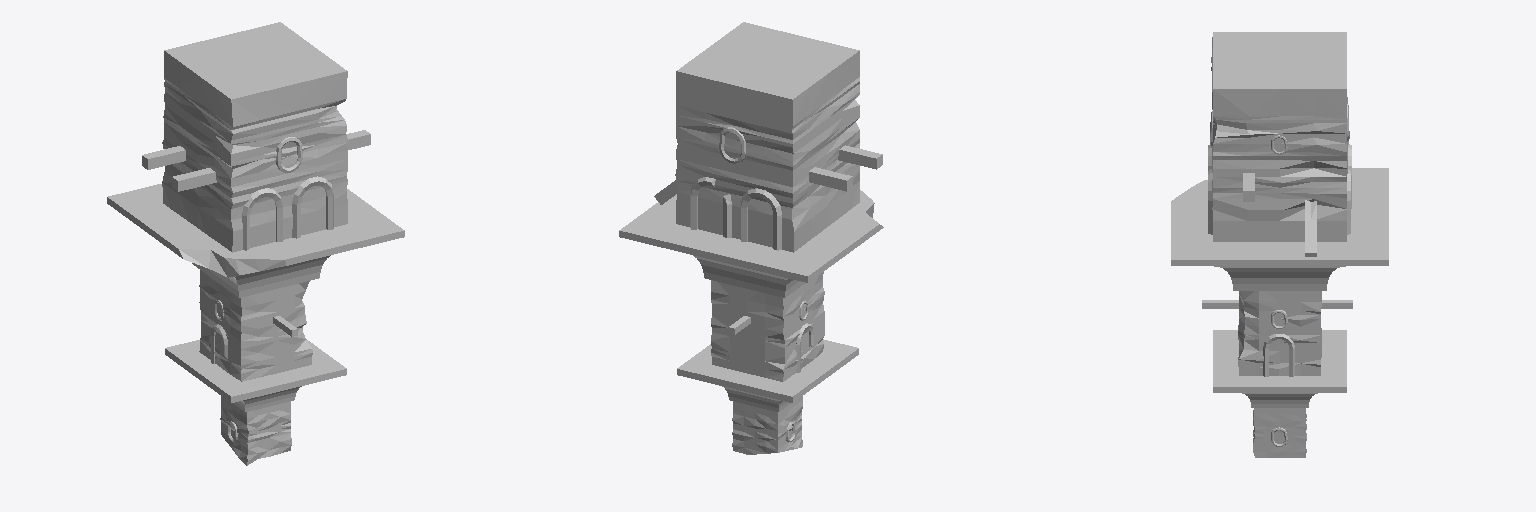
File: upsidedownhouse2.obj
The picture shows the model from 3 angles: view 1: azimuth 30°, elevation 25°; view 2: azimuth 150°, elevation 25°; view 3: azimuth 270°, elevation 25°; orthographic projection.
Parts seen in each view (by area): view 1: Torus.007_Torus.024_Torus.007_Torus.024_auv.001; view 2: Torus.007_Torus.024_Torus.007_Torus.024_auv.001; view 3: Torus.007_Torus.024_Torus.007_Torus.024_auv.001.
Part boxes in pixels (x1,y1,x2,y2): Torus.007_Torus.024_Torus.007_Torus.024_auv.001: (107, 22, 404, 465); Torus.007_Torus.024_Torus.007_Torus.024_auv.001: (619, 22, 883, 454); Torus.007_Torus.024_Torus.007_Torus.024_auv.001: (1171, 32, 1388, 457).
Size of the model in its own units: 11.54 by 22.28 by 11.27.